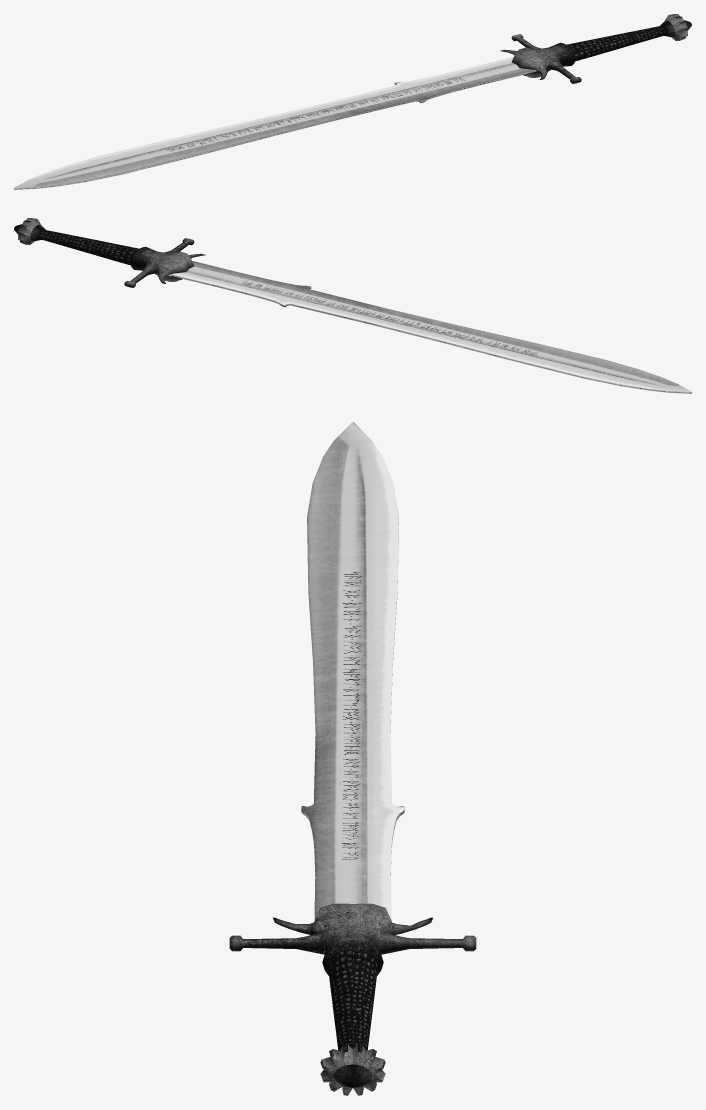
File: swordMesh.fbx
The picture shows the model from 3 angles, top to bottom: view 1: azimuth 30°, elevation 25°; view 2: azimuth 150°, elevation 25°; view 3: azimuth 270°, elevation 25°; orthographic projection. The views are drawn at different scales.
Visible parts, largest first — view 1: polySurface50; view 2: polySurface50; view 3: polySurface50.
Boxes of the visible parts, x1,y1,x2,y2 form: polySurface50: (14, 14, 691, 189); polySurface50: (14, 218, 691, 393); polySurface50: (229, 422, 476, 1095).
Bounding box in the file's own units: 1.03 × 0.0387 × 0.1634.
